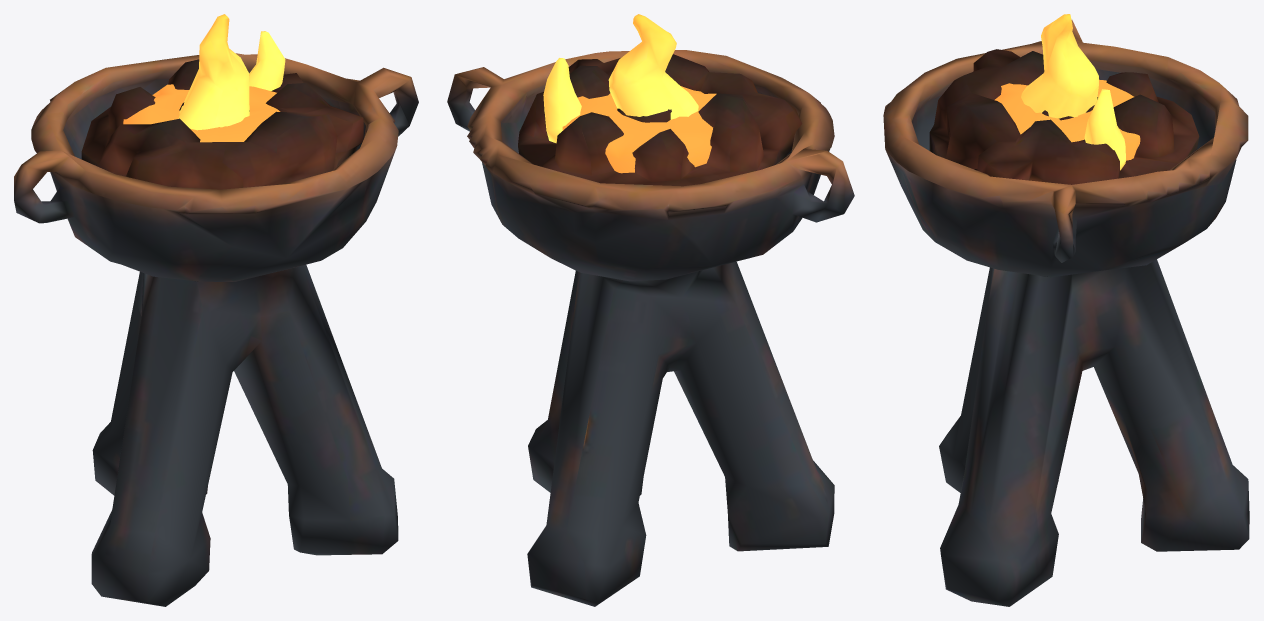
File: brazier.glb
The picture shows the model from 3 angles, left to right: view 1: azimuth 30°, elevation 25°; view 2: azimuth 150°, elevation 25°; view 3: azimuth 270°, elevation 25°; orthographic projection.
Parts seen in each view (by area): view 1: iron, flames, embers; view 2: iron, flames, embers; view 3: iron, flames, embers.
Part boxes in pixels (left/top/right/bottom): iron: left=14, top=53, right=418, bottom=606; flames: left=178, top=14, right=285, bottom=130; embers: left=123, top=84, right=280, bottom=142; iron: left=447, top=50, right=854, bottom=606; flames: left=543, top=14, right=698, bottom=143; embers: left=562, top=86, right=716, bottom=173; iron: left=883, top=20, right=1249, bottom=606; flames: left=1021, top=14, right=1125, bottom=170; embers: left=994, top=79, right=1140, bottom=160.
Size of the model in its own units: 0.5823 by 0.7201 by 0.4502.
3 materials, 3 textured.
